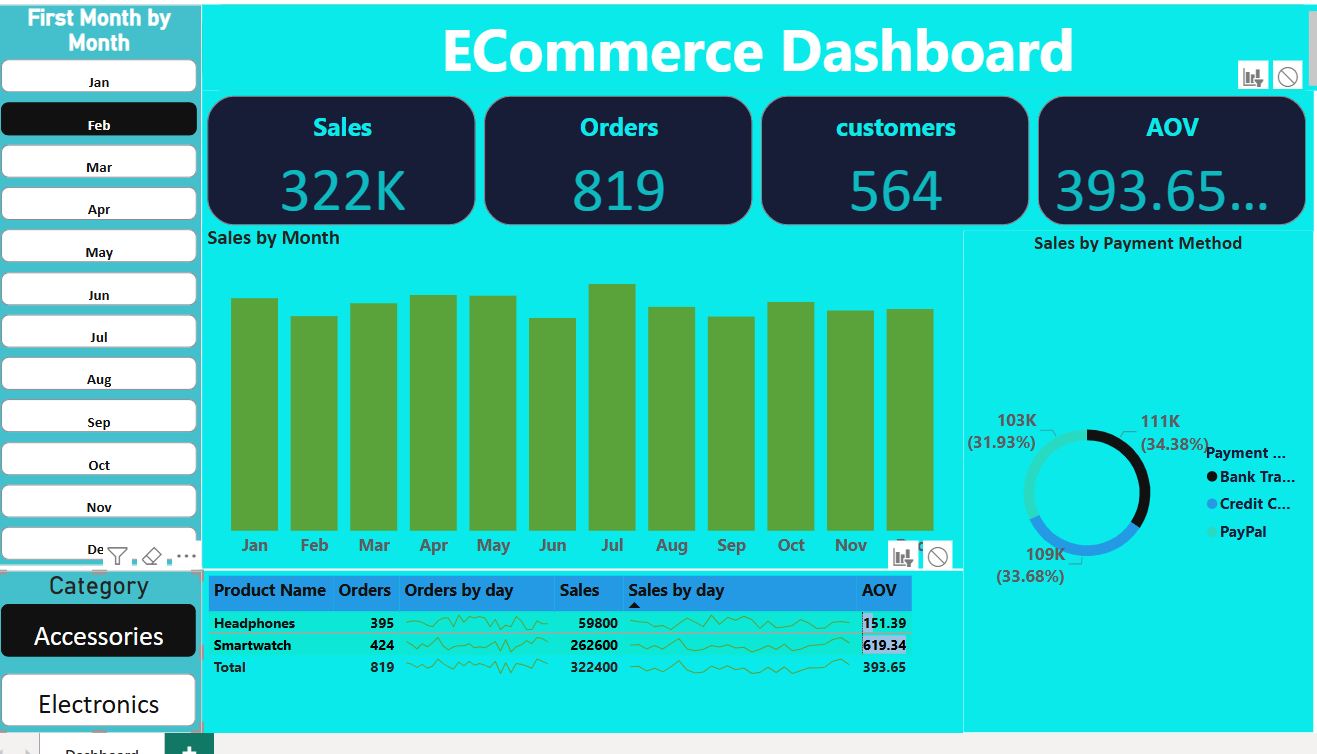

Layout of this report page (visuals, bound fields, positions):
{"tool":"powerbi","page":{"name":"Dashboard","canvas":[1280,720],"ordinal":0},"visuals":[{"type":"advancedSlicerVisual","fields":{"Values":["Calender.month"]},"box":[0,16.9,199.1,541.7],"z":1},{"type":"advancedSlicerVisual","fields":{"Values":["dim_ product.Category"]},"box":[0,564,198.8,155.8],"z":2},{"type":"pieChart","fields":{"Y":["Calender.Sales"],"Category":["DimpaymentMothord.Payment Method"]},"box":[933.8,235.3,337.8,483.8],"z":3},{"type":"clusteredColumnChart","fields":{"Y":["Calender.Sales"],"Category":["Calender.Month"]},"box":[199.1,229.2,734.7,331.8],"z":4},{"type":"tableEx","fields":{"Values":["FactEcommerce.Product Name","Calender.Orders","SparklineData(Calender.Orders_[Calender.day])","Calender.Sales","SparklineData(Calender.Sales_[Calender.day])","Calender.AOV"]},"box":[199.1,563.4,734.7,156.8],"z":5},{"type":"shape","box":[199.1,16.9,1081,83.2],"z":8},{"type":"textbox","box":[199.1,16.9,1081,83.2],"z":10},{"type":"cardVisual","fields":{"Data":["Calender.Sales","Calender.Orders","Calender.customers","Calender.AOV"]},"box":[199.1,100.1,1072.5,135.1],"z":11}]}

Visuals, with their boxes in screenshot pixels (x1, y1, x2, y2):
advancedSlicerVisual - Calender.month: left=0, top=10, right=191, bottom=540
advancedSlicerVisual - dim_ product.Category: left=0, top=545, right=191, bottom=698
pieChart - Calender.Sales x DimpaymentMothord.Payment Method: left=910, top=223, right=1241, bottom=697
clusteredColumnChart - Calender.Sales x Calender.Month: left=191, top=217, right=910, bottom=542
tableEx - FactEcommerce.Product Name x Calender.Orders: left=191, top=545, right=910, bottom=698
shape: left=191, top=10, right=1249, bottom=91
textbox: left=191, top=10, right=1249, bottom=91
cardVisual - Calender.Sales x Calender.Orders: left=191, top=91, right=1241, bottom=223
